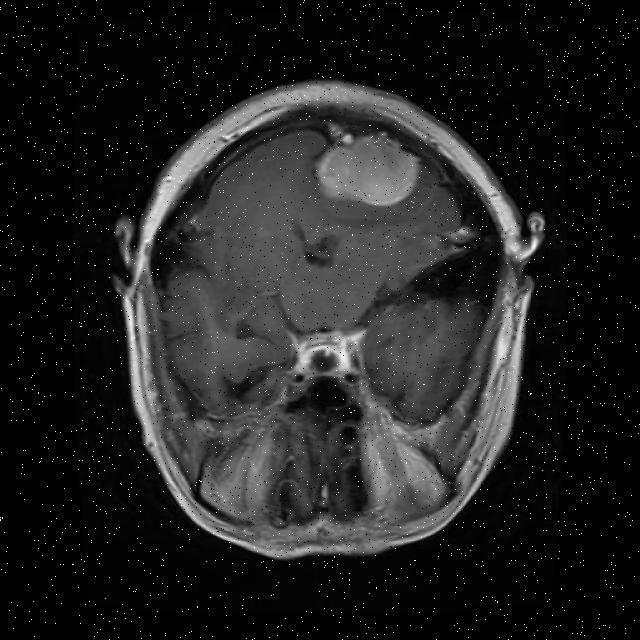Meningioma: (317, 133, 419, 206)
